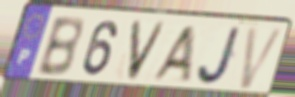6: (81, 19, 119, 79)
A: (147, 24, 198, 83)
B: (34, 15, 84, 79)
J: (196, 25, 245, 87)
V: (237, 26, 288, 91), (124, 18, 169, 84)
